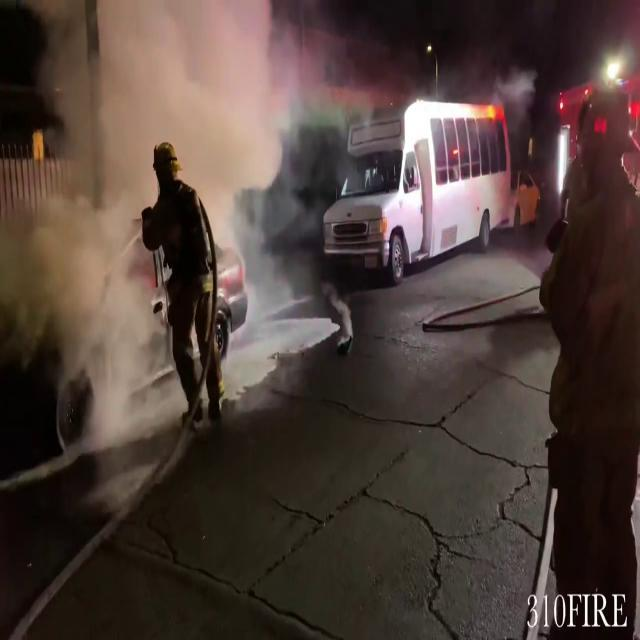Smoke: (6, 0, 326, 423)
